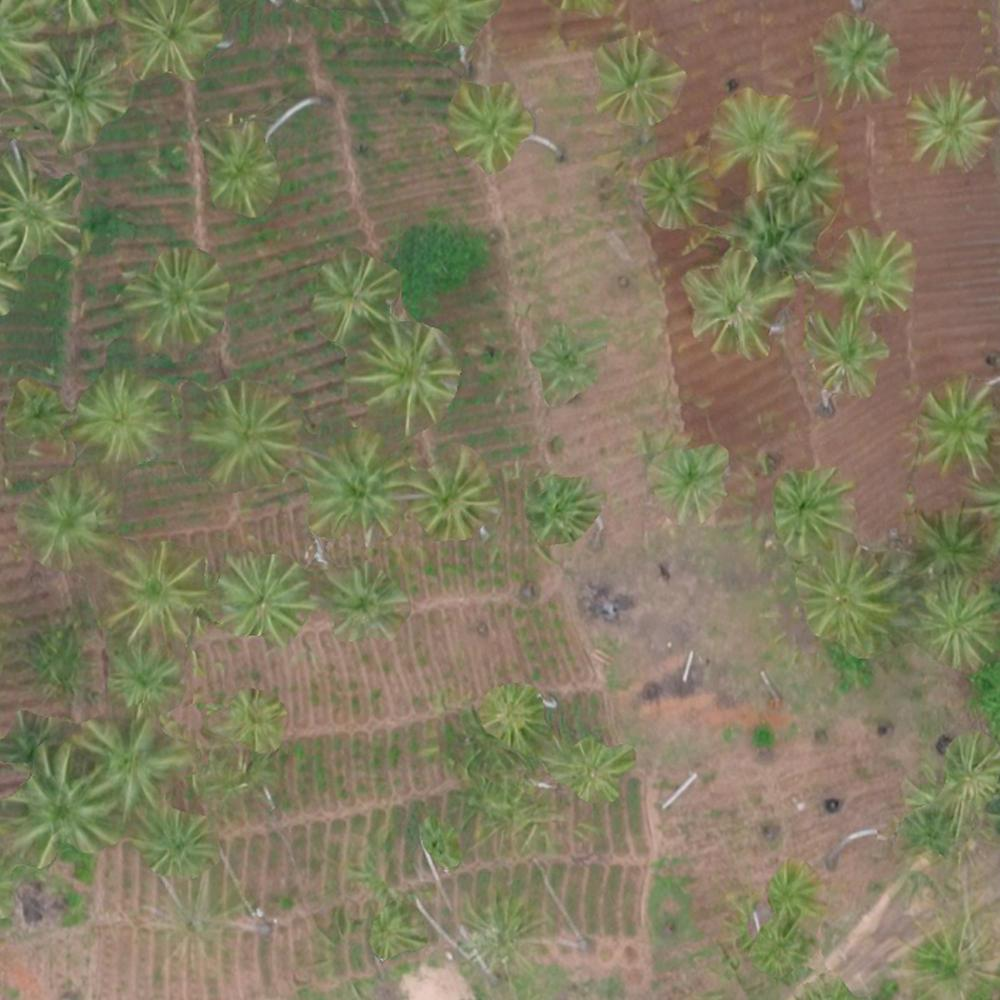Palm: (5, 752, 122, 865), (75, 712, 183, 815), (303, 440, 407, 541), (193, 386, 300, 484), (1, 159, 87, 276), (358, 328, 460, 426), (24, 43, 124, 142), (687, 257, 786, 357), (104, 547, 202, 642), (212, 551, 307, 646), (711, 91, 805, 184), (127, 252, 220, 345), (118, 1, 221, 81), (917, 377, 998, 476), (21, 475, 111, 564), (803, 552, 893, 641), (312, 250, 404, 335), (915, 580, 994, 675), (408, 457, 495, 541), (826, 229, 916, 310), (815, 19, 898, 105), (730, 196, 817, 275), (84, 379, 166, 462), (799, 317, 882, 398), (199, 126, 280, 207), (316, 564, 399, 643), (909, 84, 986, 169), (137, 806, 218, 885), (767, 472, 854, 545), (449, 86, 534, 160), (592, 42, 674, 118), (908, 510, 994, 579), (632, 158, 709, 224), (524, 474, 596, 544), (771, 144, 846, 210), (478, 683, 547, 754), (104, 645, 179, 710), (217, 693, 288, 752), (534, 327, 602, 388), (654, 451, 719, 514), (561, 739, 631, 796), (5, 382, 67, 444)
